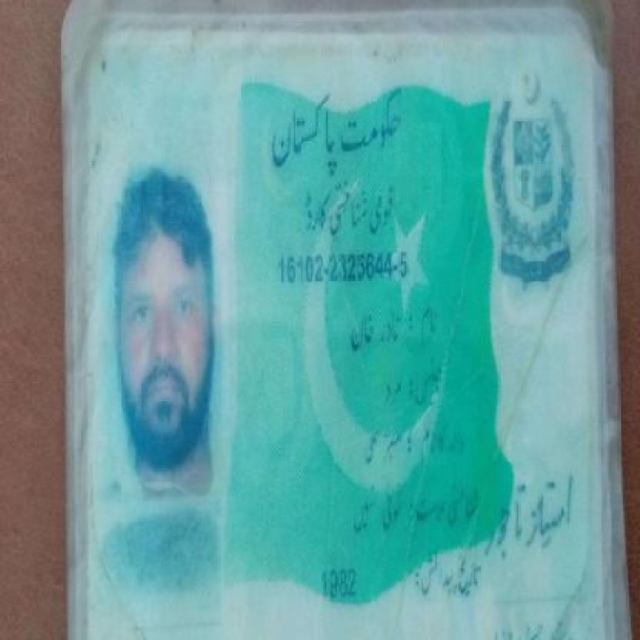Front: (63, 11, 620, 635)
